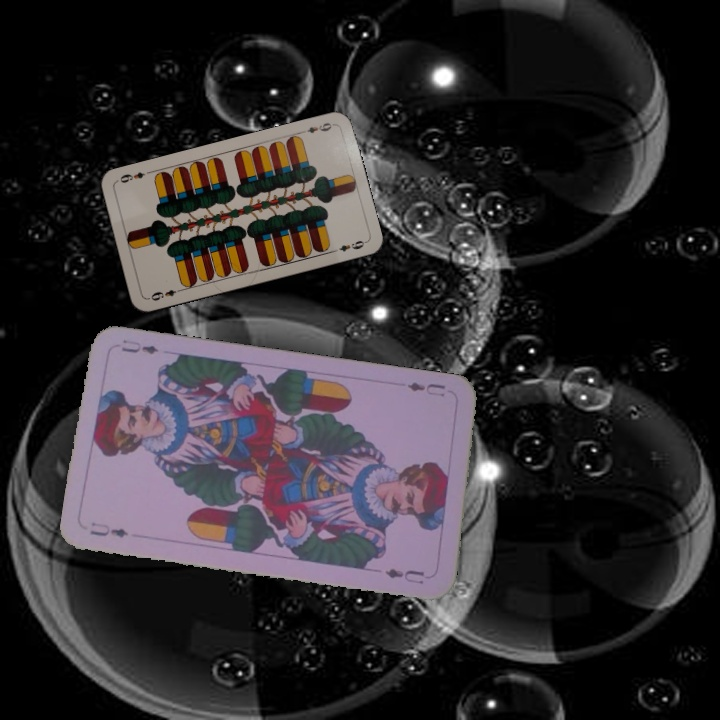E9: (145, 285, 185, 303), (297, 118, 337, 136)
EU: (86, 518, 131, 540), (403, 378, 448, 399)
